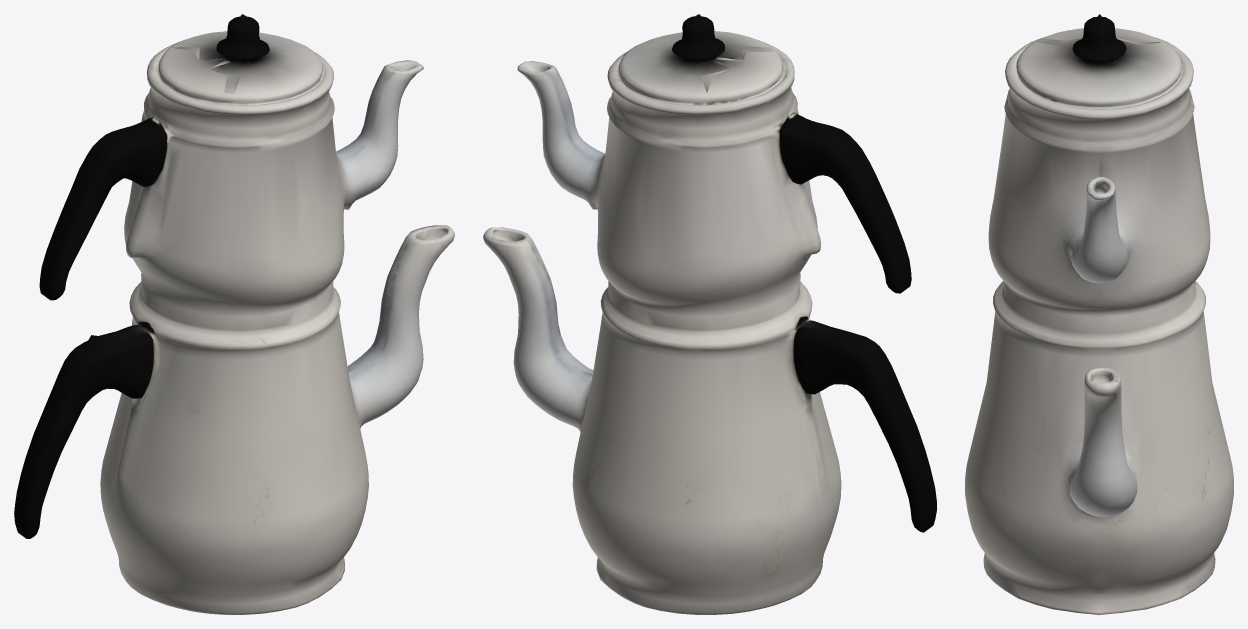
The model's file is caydanlık.fbx.
3 views of the same model, side by side, from view 1: azimuth 30°, elevation 25°; view 2: azimuth 150°, elevation 25°; view 3: azimuth 270°, elevation 25° (orthographic).
Parts seen in each view (by area): view 1: texture_pbr_v128; view 2: texture_pbr_v128; view 3: texture_pbr_v128.
Boxes of the visible parts, left/top/right/bottom form: texture_pbr_v128: left=14, top=14, right=454, bottom=614; texture_pbr_v128: left=483, top=14, right=936, bottom=614; texture_pbr_v128: left=965, top=14, right=1233, bottom=614.
Bounding box in the file's own units: 93.67 × 112 × 49.09.
1 material, 1 textured.
